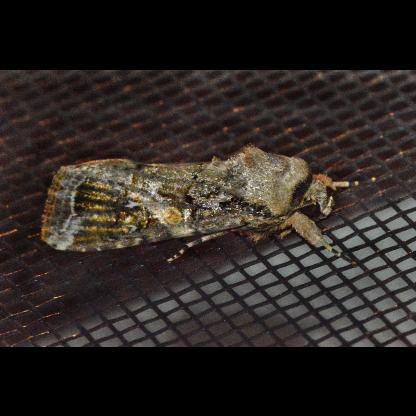Fall Armyworm Moth: (26, 140, 378, 268)
